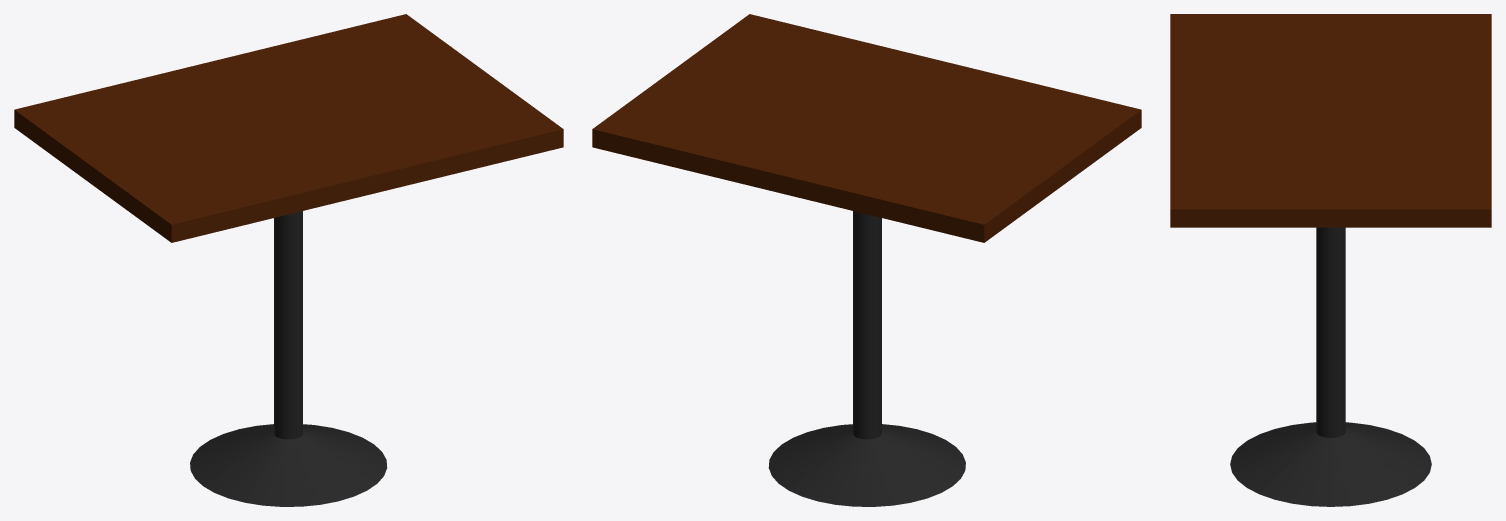
Rendered from Table.fbx.
The picture shows the model from 3 angles, left to right: view 1: azimuth 30°, elevation 25°; view 2: azimuth 150°, elevation 25°; view 3: azimuth 270°, elevation 25°; orthographic projection. The views are drawn at different scales.
Parts seen in each view (by area): view 1: TableTop, TableLeg; view 2: TableTop, TableLeg; view 3: TableTop, TableLeg.
Part boxes in pixels (x1,y1,x2,y2): TableTop: (14, 14, 563, 242); TableLeg: (190, 211, 387, 506); TableTop: (592, 14, 1141, 242); TableLeg: (768, 211, 965, 506); TableTop: (1170, 14, 1491, 227); TableLeg: (1230, 227, 1431, 506).
Size of the model in its own units: 61.78 by 52.08 by 42.95.
